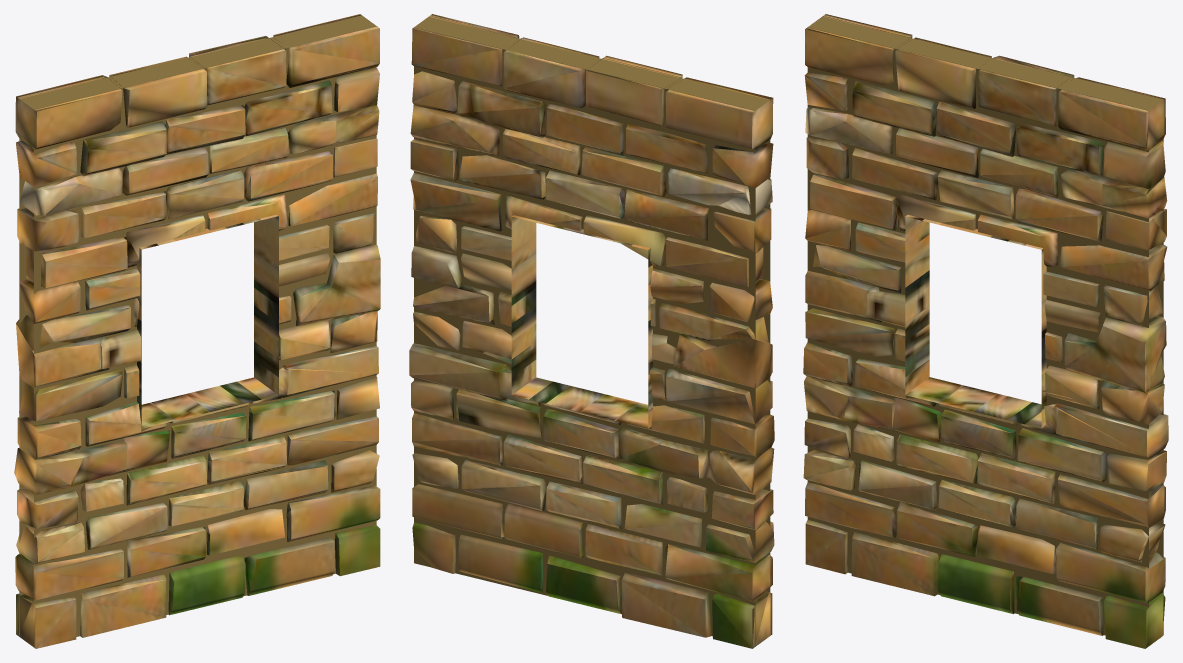
File: wall-stone-window.lod1.glb
3 renders of one model, left to right at view 1: azimuth 30°, elevation 25°; view 2: azimuth 150°, elevation 25°; view 3: azimuth 330°, elevation 25°, orthographic.
Size of the model in its own units: 2 by 3 by 0.25.
Materials: 1 (1 with a texture image).
